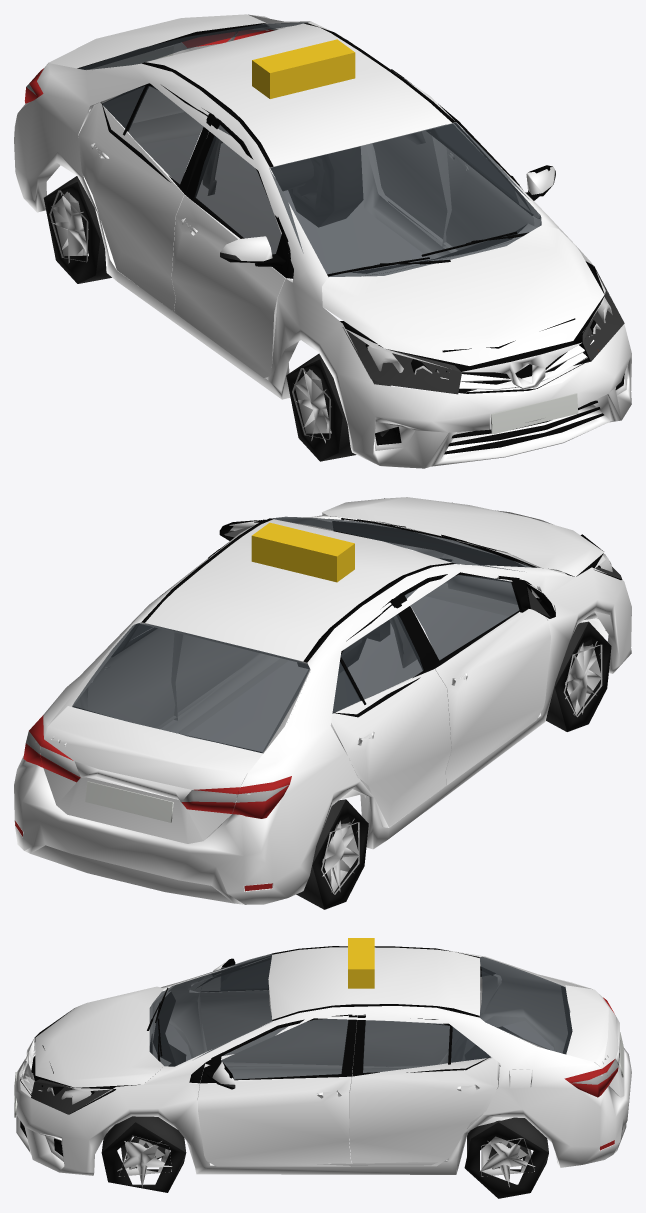
3 renders of one model, top to bottom at view 1: azimuth 30°, elevation 25°; view 2: azimuth 150°, elevation 25°; view 3: azimuth 270°, elevation 25°, orthographic. The views are drawn at different scales.
Visible parts, largest first — view 1: body, glass, wheel_FL, wheel_RL, wheel_RR; view 2: body, glass, wheel_RL, wheel_FL; view 3: body, glass, wheel_RR, wheel_FR.
Part boxes in pixels (x1,y1,x2,y2): body: (14,14,631,468); glass: (79,22,541,277); wheel_FL: (286,353,356,461); wheel_RL: (43,176,111,283); wheel_RR: (288,147,362,226); body: (14,497,631,904); glass: (72,516,532,753); wheel_RL: (296,799,368,909); wheel_FL: (546,621,611,731); body: (14,938,631,1175); glass: (149,954,572,1079); wheel_RR: (464,1117,548,1198); wheel_FR: (101,1116,186,1192).
Bounding box in the file's own units: 2.17 × 1.62 × 4.61.
